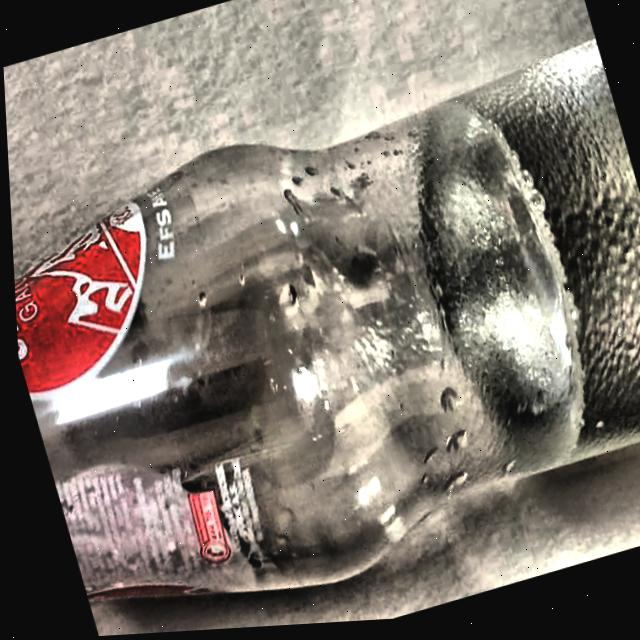plastic: (11, 43, 640, 606)
